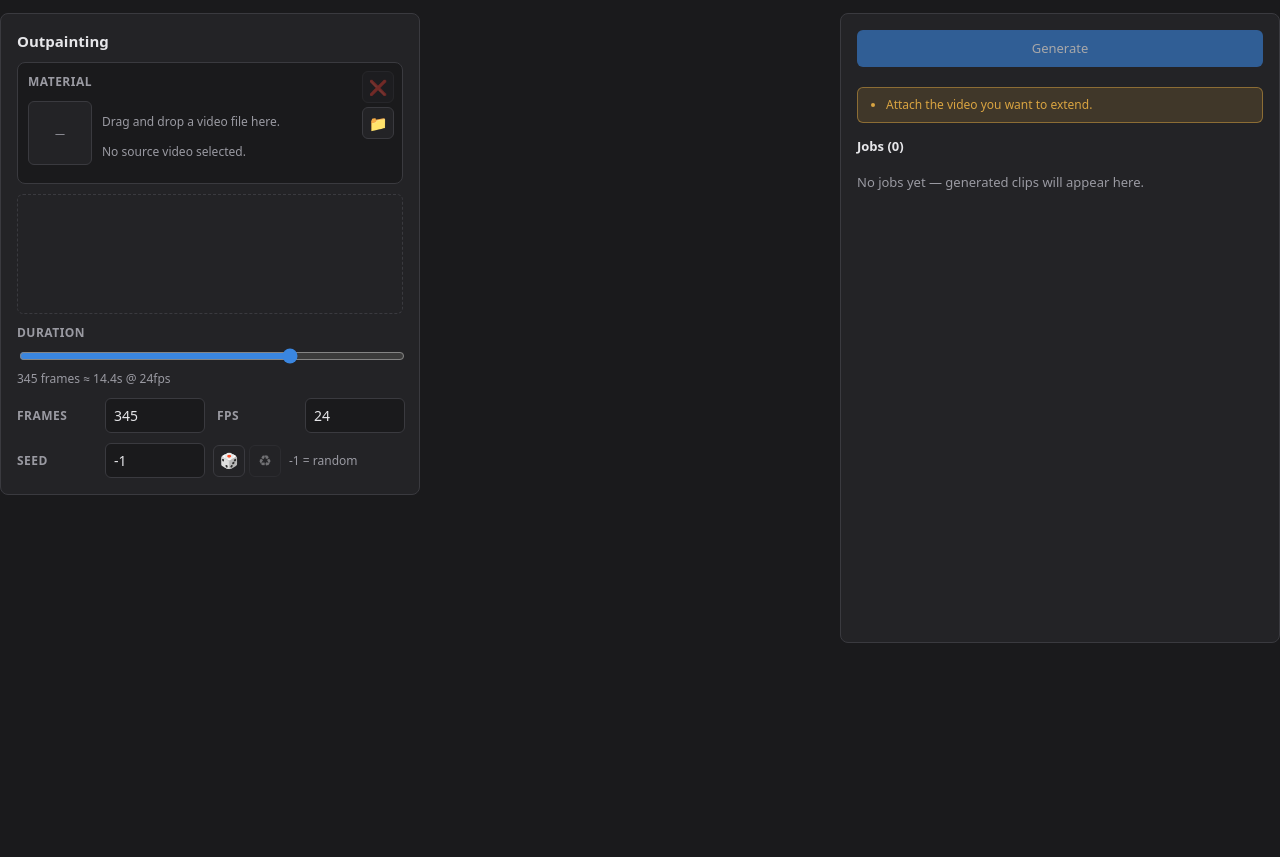
Test: OutpaintingPanel › blocks Generate with SEPARATE width and height lines, each clearing on its own
The image size is (1280, 857).
Click the button named "choose source video" at coordinates (378, 123), box [362,107,394,139]
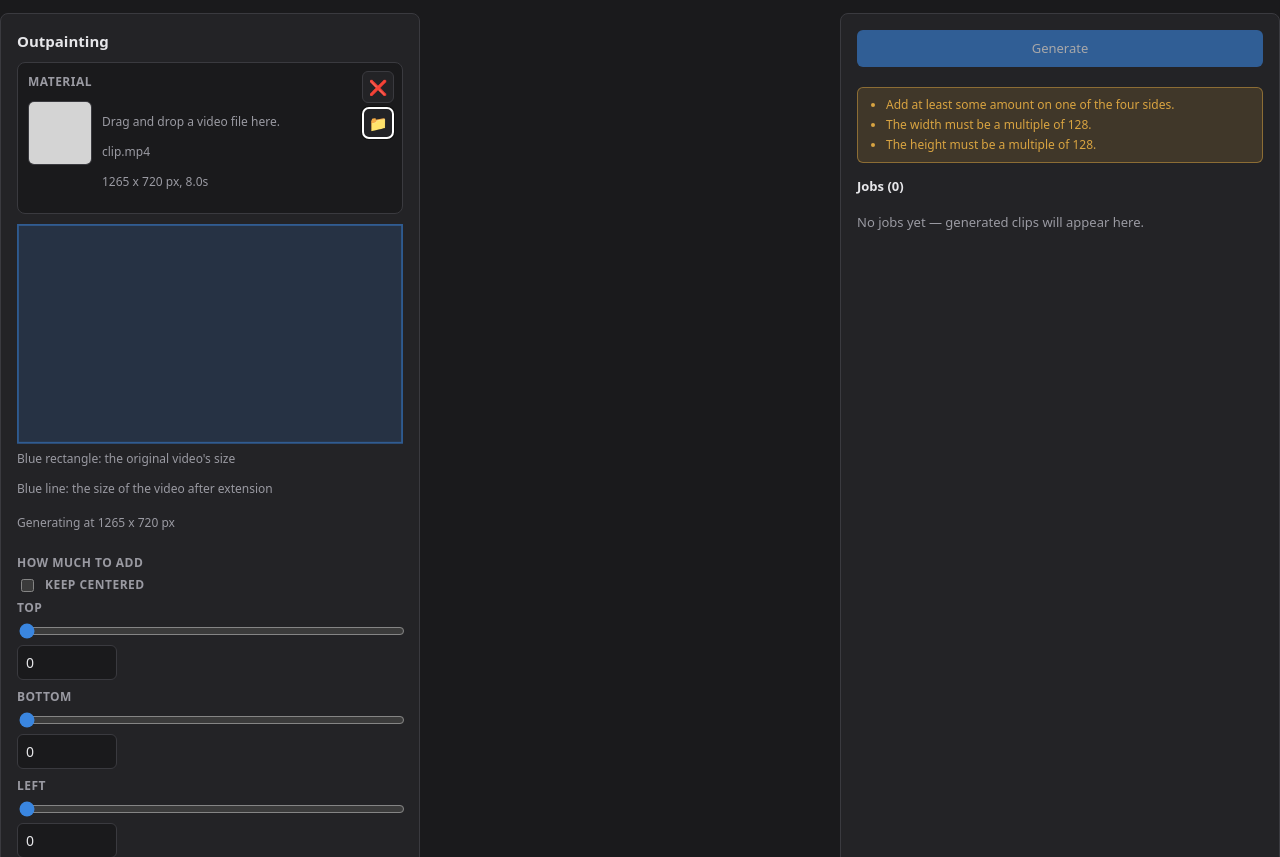
Result: the slider labelled "Left" is shown at [19,801,405,817]
Result: the list item "The width must be a multiple of 128." is shown at [886,116,1092,133]
Result: the list item "The height must be a multiple of 128." is shown at [886,136,1096,153]
Set the slider labelled "Top" to "24" at coordinates (67, 631), box [19,623,405,639]
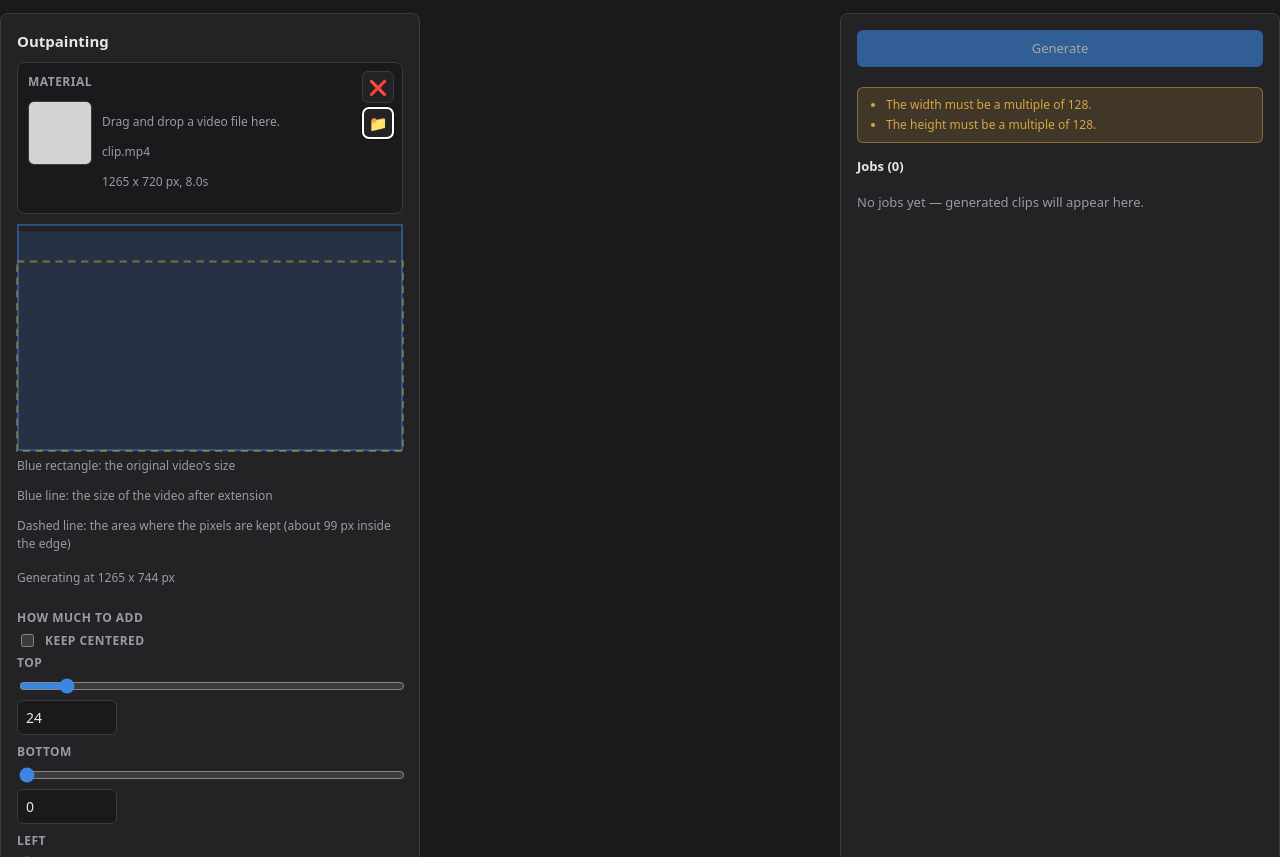
Set the slider labelled "Bottom" to "24" at coordinates (67, 775), box [19,767,405,783]
(page scrolled)
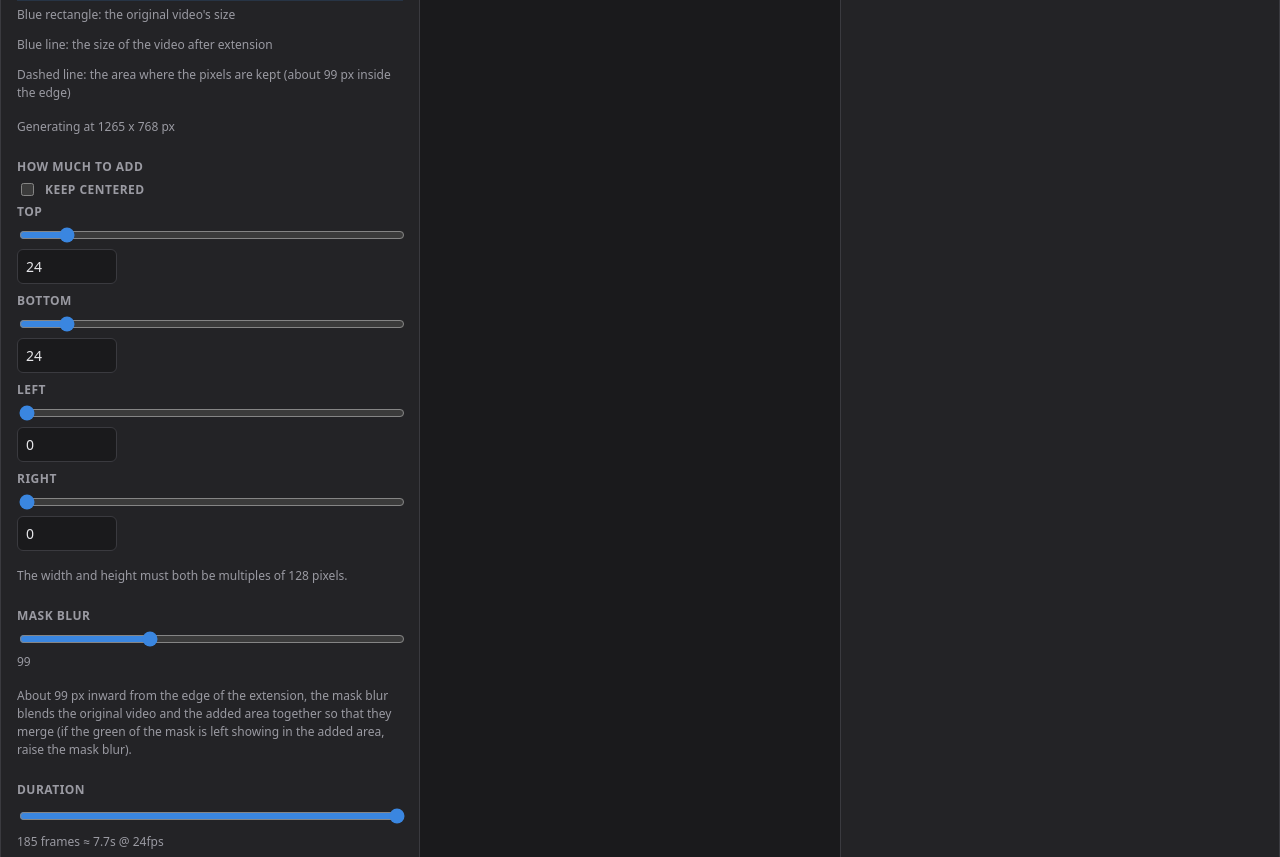
Result: the list item "The height must be a multiple of 128" is gone
Set the slider labelled "Left" to "7" at coordinates (39, 413), box [19,405,405,421]
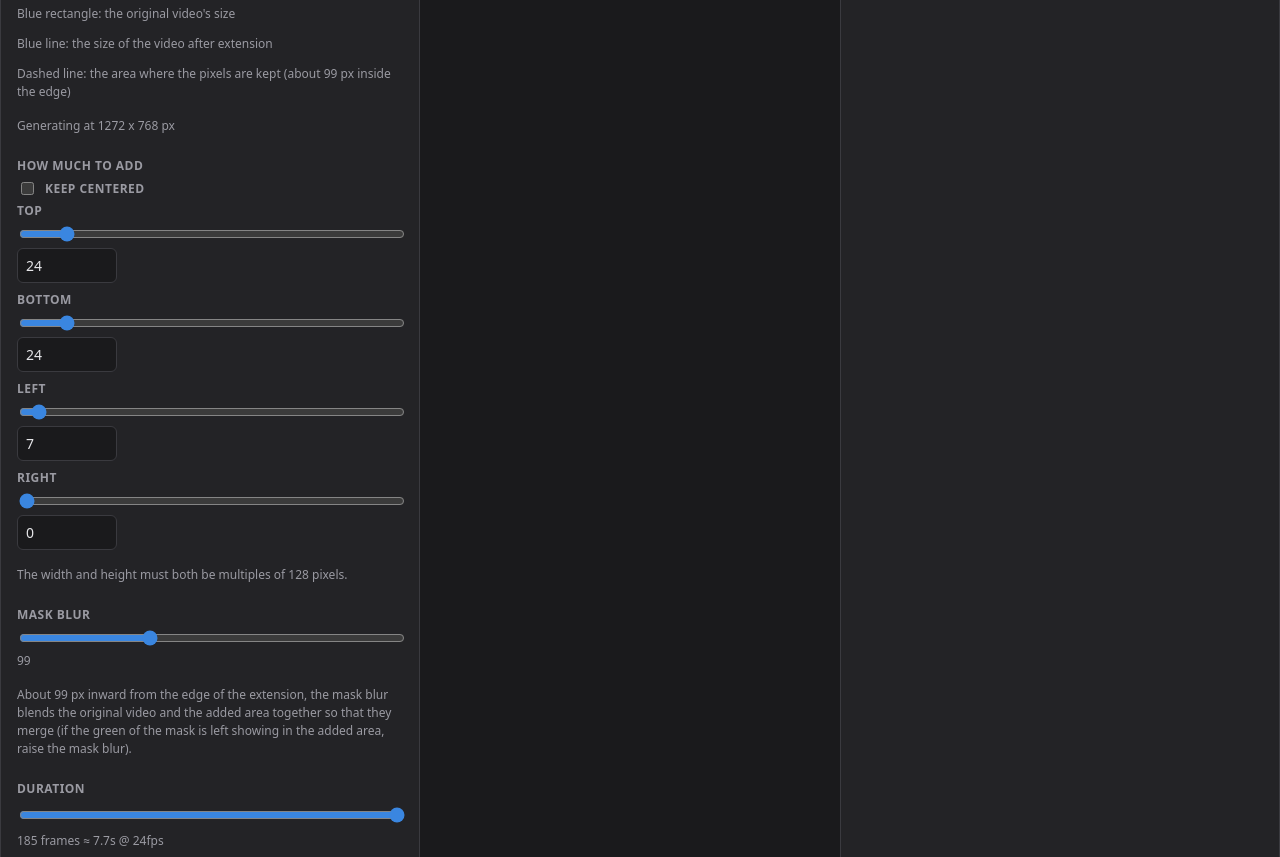
Set the slider labelled "Right" to "8" at coordinates (40, 501), box [19,493,405,509]
(page scrolled)
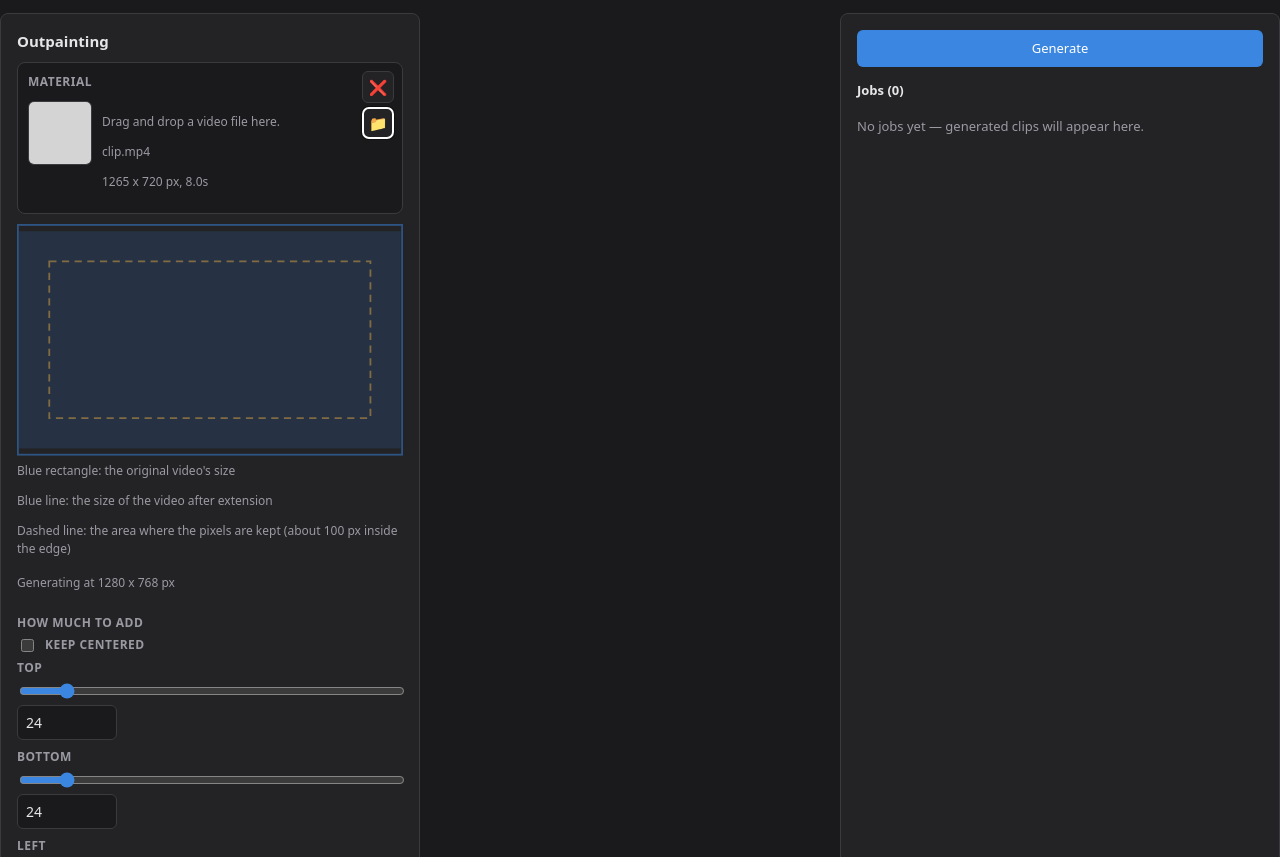
Result: the button "Generate" is enabled at [857,30,1263,67]
